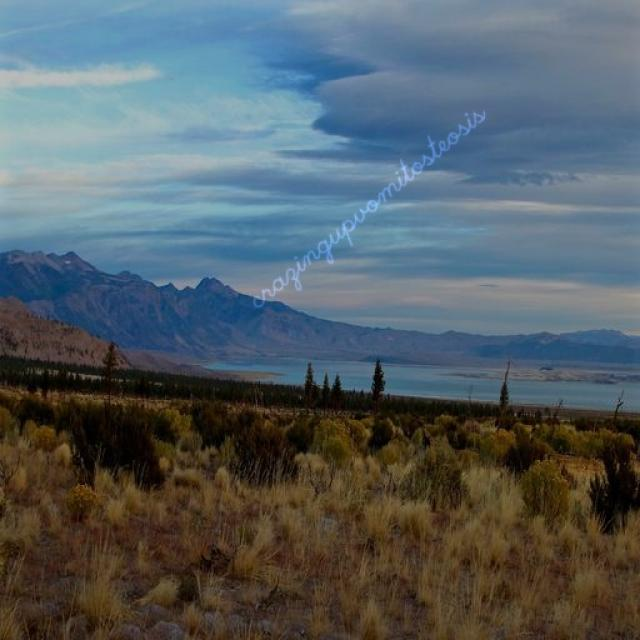watermark: (249, 89, 487, 313)
